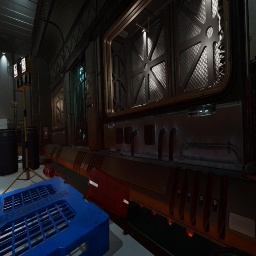EmergencyPhone ,: (48, 129, 51, 135)
FireExtinguisher ]: (43, 166, 57, 178)
FirstAidBox ,: (86, 167, 130, 218)
NitrogenTank ,: (39, 149, 45, 155)
SafetySwitchPanel ,: (86, 74, 92, 99), (44, 127, 48, 139)
